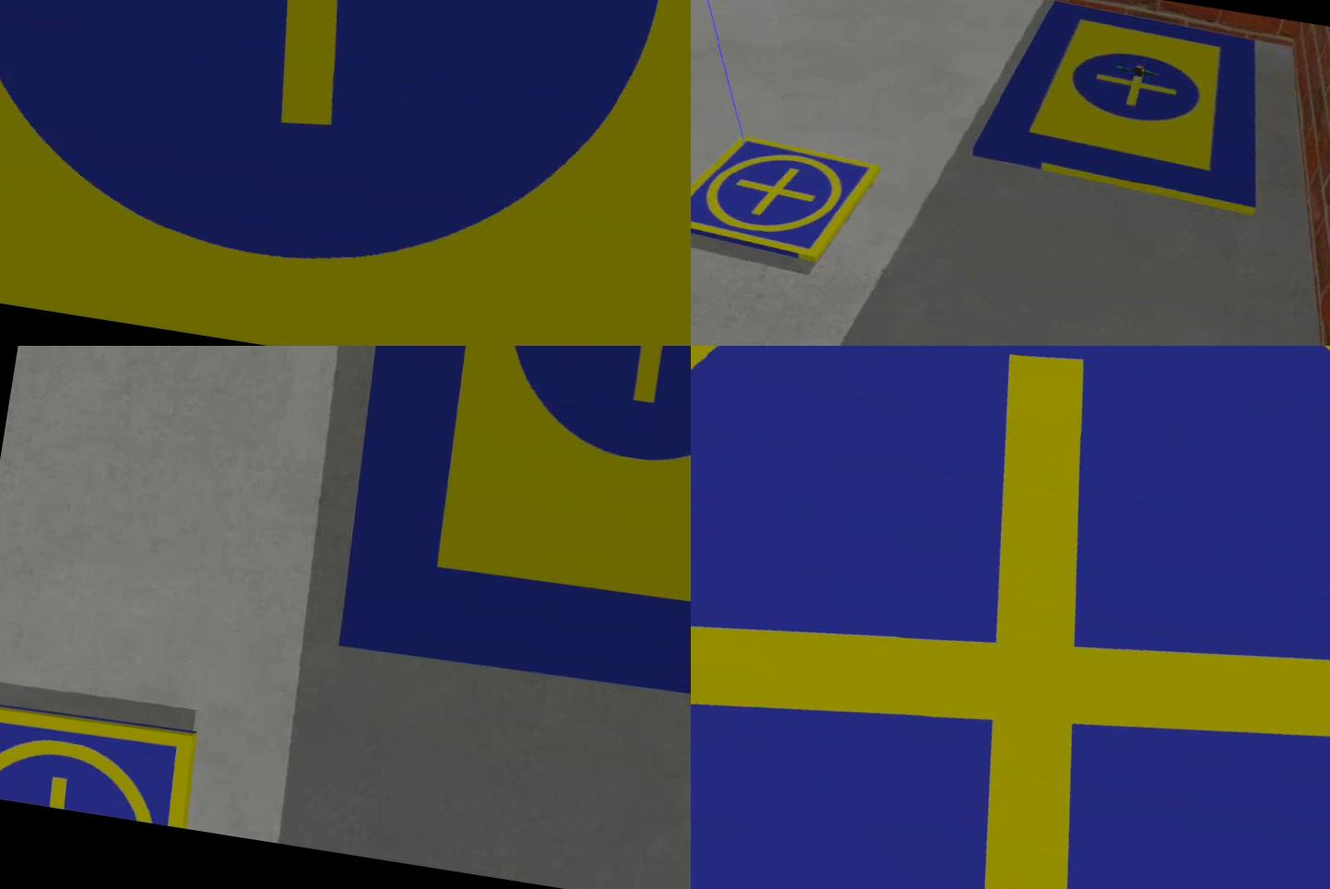large_base: (1, 1, 692, 347), (320, 347, 692, 732), (969, 1, 1283, 216)
small_base: (692, 347, 1330, 889), (692, 118, 882, 274), (1, 694, 200, 831)
